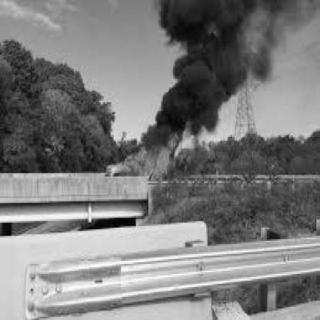Smoke: (131, 1, 313, 141)
